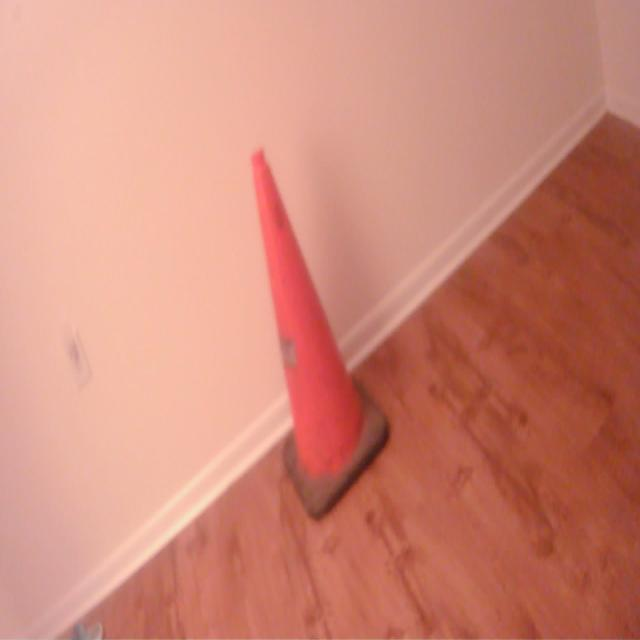traffic cone: (248, 144, 394, 528)
